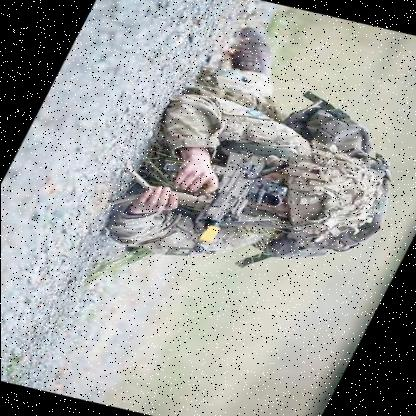rifle: (147, 139, 288, 265)
